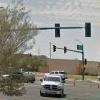Traffic light: (49, 21, 93, 42)
